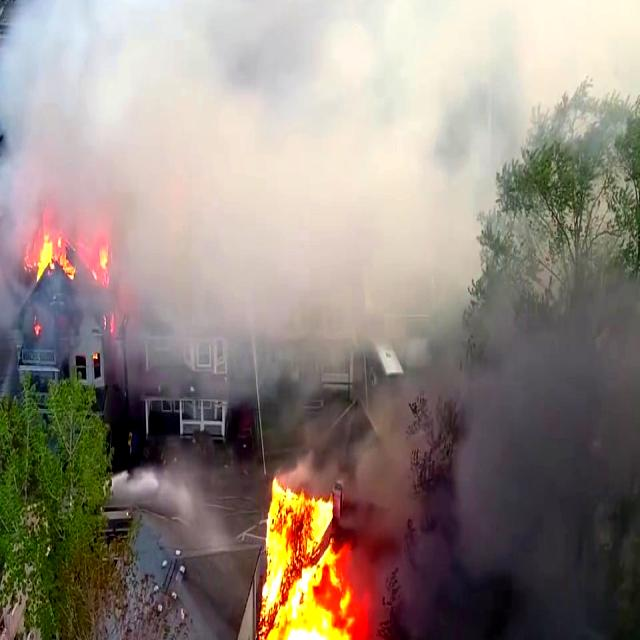fire: (267, 486, 348, 640)
smoke: (73, 0, 455, 230)
